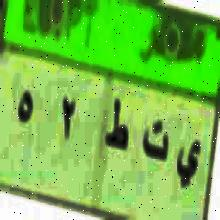2: (62, 90, 76, 148)
5: (14, 85, 36, 133)
Taa: (103, 93, 129, 166)
taa: (143, 116, 168, 174)
yaa: (174, 130, 202, 202)
